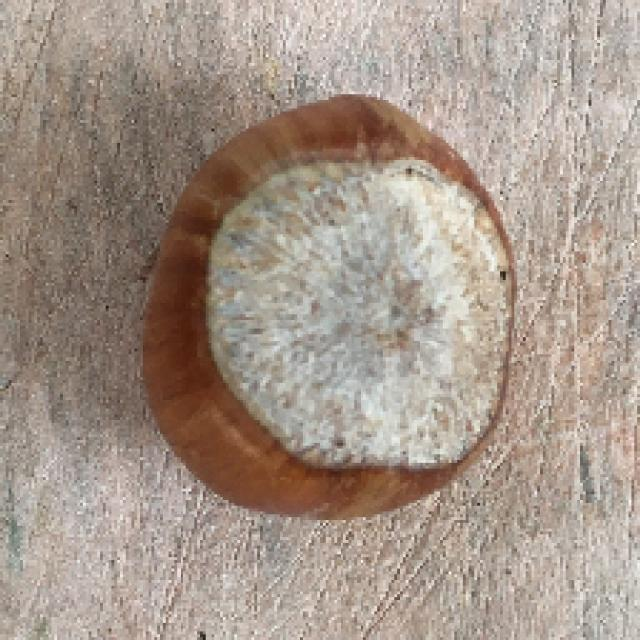qualityHazelnut: (149, 92, 514, 526)
